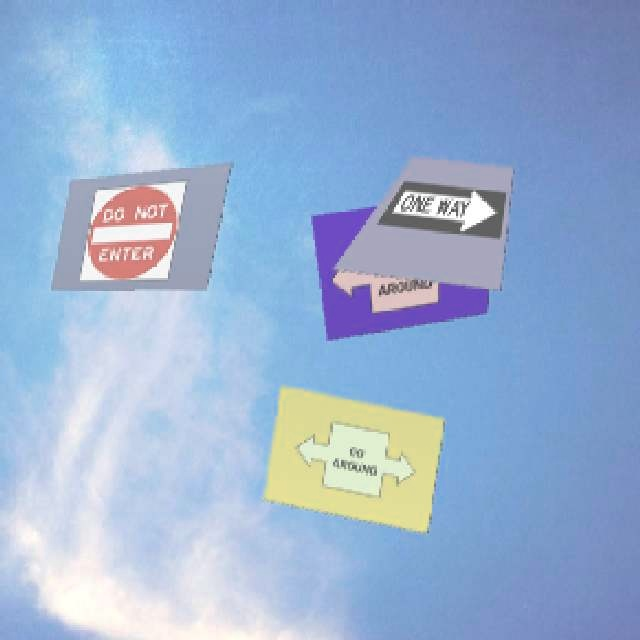DO_NOT_ENTER: (77, 179, 186, 284)
DO_NOT_GO_AROUND: (323, 211, 479, 320)
GO_AROUND: (289, 414, 419, 503)
ONE_WAY_ right: (374, 178, 510, 238)
